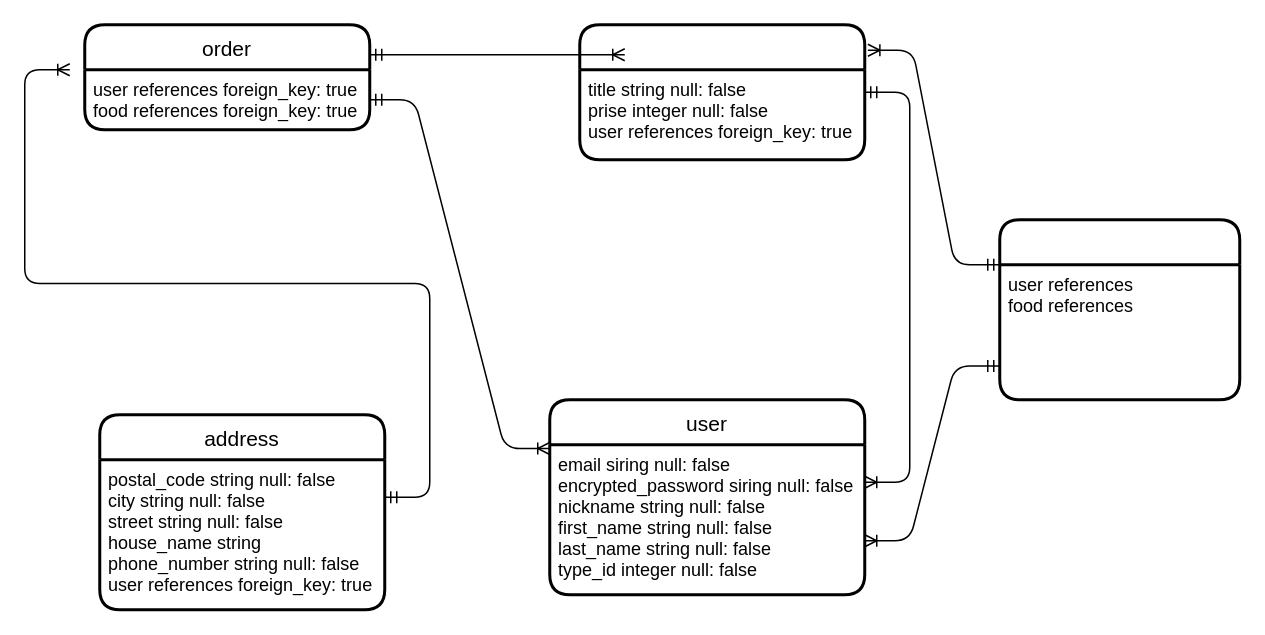
Some shapes in this 1265 by 635 pixel diagram are drawn without their labels. The shapes that lost their labels are listed below. From the top down, each one's box as (x1, y1, x2, y2) in pixels, then its label:
(578, 22, 866, 160): food
(998, 218, 1240, 400): favorites
